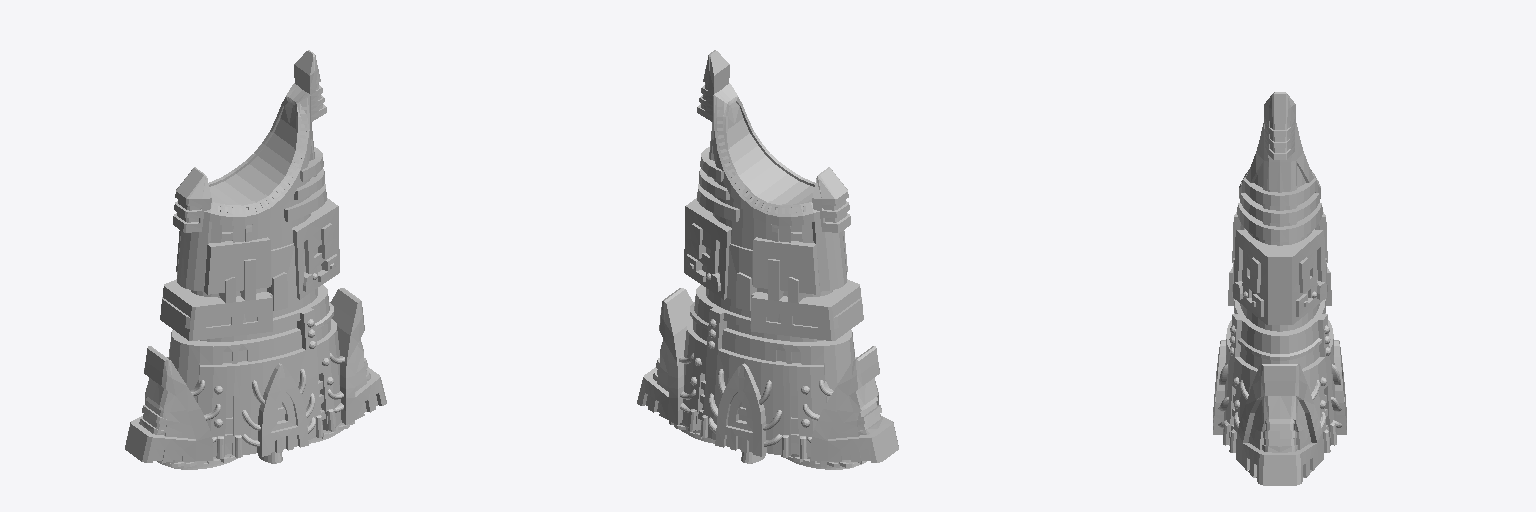
Rendered from miniature_flagship_upright.obj.
The picture shows the model from 3 angles: view 1: azimuth 30°, elevation 25°; view 2: azimuth 150°, elevation 25°; view 3: azimuth 270°, elevation 25°; orthographic projection.
Parts seen in each view (by area): view 1: miniatures_flagship_upright_merged_engines; view 2: miniatures_flagship_upright_merged_engines; view 3: miniatures_flagship_upright_merged_engines.
Boxes of the visible parts, x1=… form: miniatures_flagship_upright_merged_engines: x1=125, y1=50, x2=386, y2=469; miniatures_flagship_upright_merged_engines: x1=637, y1=50, x2=898, y2=469; miniatures_flagship_upright_merged_engines: x1=1213, y1=92, x2=1346, y2=485.
Size of the model in its own units: 0.7643 by 1.13 by 0.3608.